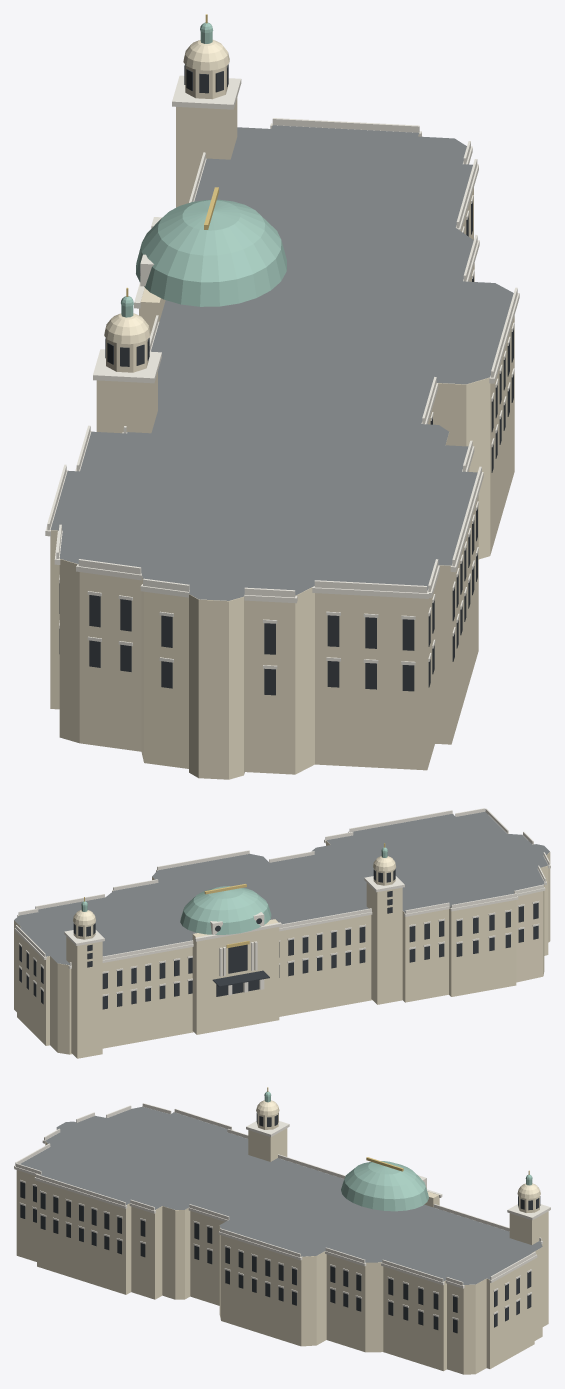
The model's file is monaco_casino.glb.
3 renders of one model, top to bottom at view 1: azimuth 30°, elevation 25°; view 2: azimuth 150°, elevation 25°; view 3: azimuth 270°, elevation 25°, orthographic. The views are drawn at different scales.
Parts seen in each view (by area): view 1: Casino slate roof, Casino cream stone, Casino white mouldings, Verdigris copper, Casino dark glass; view 2: Casino cream stone, Casino slate roof, Casino white mouldings, Casino dark glass, Verdigris copper; view 3: Casino cream stone, Casino slate roof, Casino white mouldings, Casino dark glass, Verdigris copper.
Part boxes in pixels (box(x1,y1,x2,y2)): Casino slate roof: box(50, 125, 513, 600); Casino cream stone: box(50, 40, 514, 779); Casino white mouldings: box(45, 75, 519, 669); Verdigris copper: box(121, 22, 286, 317); Casino dark glass: box(59, 64, 513, 695); Casino cream stone: box(14, 840, 550, 1058); Casino slate roof: box(14, 812, 549, 965); Casino white mouldings: box(14, 808, 550, 996); Casino dark glass: box(19, 869, 538, 1009); Verdigris copper: box(81, 847, 387, 934); Casino cream stone: box(16, 1100, 548, 1374); Casino slate roof: box(20, 1106, 542, 1284); Casino white mouldings: box(14, 1103, 550, 1320); Casino dark glass: box(20, 1113, 540, 1333); Verdigris copper: box(264, 1091, 532, 1211).
Size of the model in its own units: 123 by 49.77 by 155.
